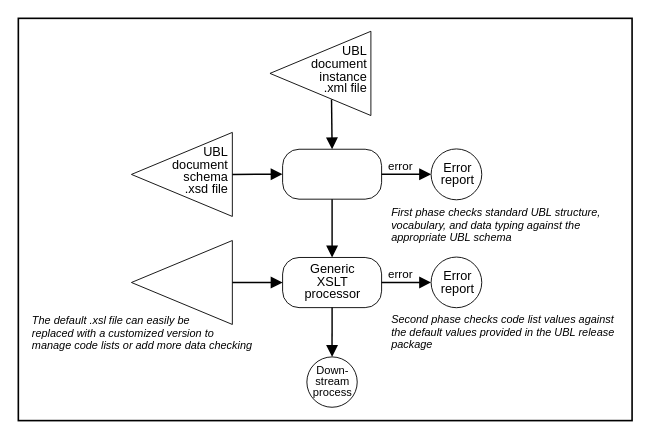
The diagram is 652 pixels wide and 441 high, and some of its shapes have lost their labels. The shapes that lost their labels are listed below. From the top down, each one's centre as x and y in pixels, then its label:
At pixel 332 173: "Generic schema validator".
At pixel 181 282: "UBL Data Type Qualifications .xsl file".
